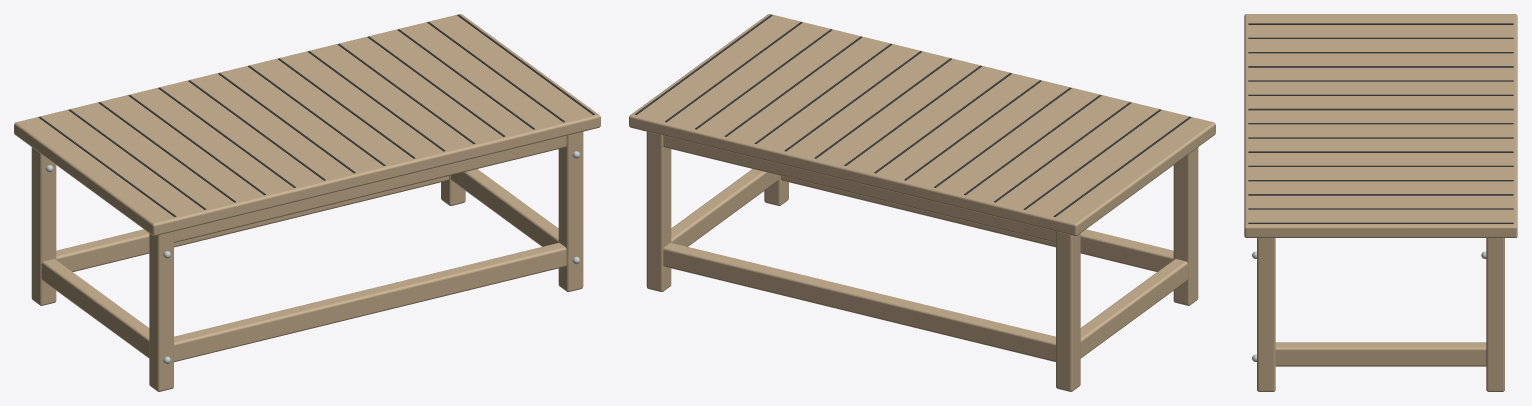
The model's file is textile-weaving-and-dye-workshop-cutting-table-cbd841c5__29552.glb.
The picture shows the model from 3 angles, left to right: view 1: azimuth 30°, elevation 25°; view 2: azimuth 150°, elevation 25°; view 3: azimuth 270°, elevation 25°; orthographic projection. The views are drawn at different scales.
Visible parts, largest first — view 1: cutting-table; view 2: cutting-table; view 3: cutting-table.
Part boxes in pixels (x1,y1,x2,y2): cutting-table: [14, 14, 600, 391]; cutting-table: [629, 14, 1215, 391]; cutting-table: [1244, 14, 1517, 391].
Bounding box in the file's own units: 2.4 × 0.9051 × 1.3.
